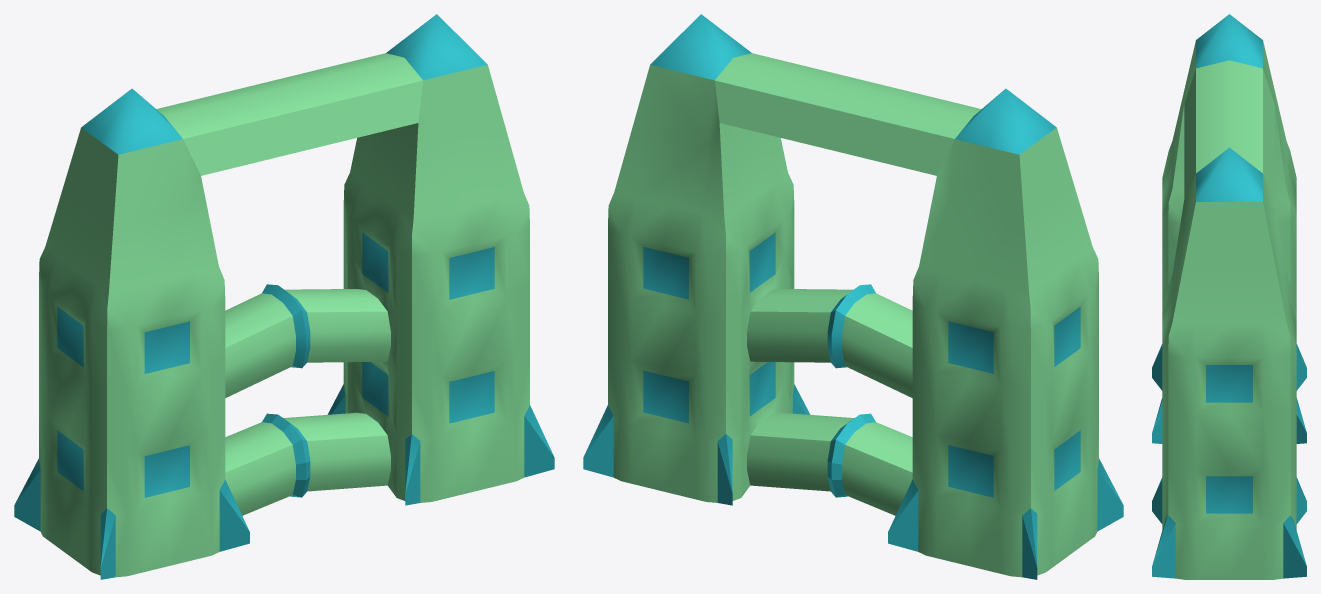
Rendered from Ruins 9.fbx.
3 renders of one model, left to right at view 1: azimuth 30°, elevation 25°; view 2: azimuth 150°, elevation 25°; view 3: azimuth 270°, elevation 25°, orthographic. The views are drawn at different scales.
Parts seen in each view (by area): view 1: Ruins 9; view 2: Ruins 9; view 3: Ruins 9.
Part boxes in pixels (<box>): Ruins 9: <box>14,14,554,579</box>; Ruins 9: <box>583,14,1123,579</box>; Ruins 9: <box>1152,14,1306,579</box>.
Size of the model in its own units: 70.23 by 66.53 by 23.11.
2 materials, 2 textured.
